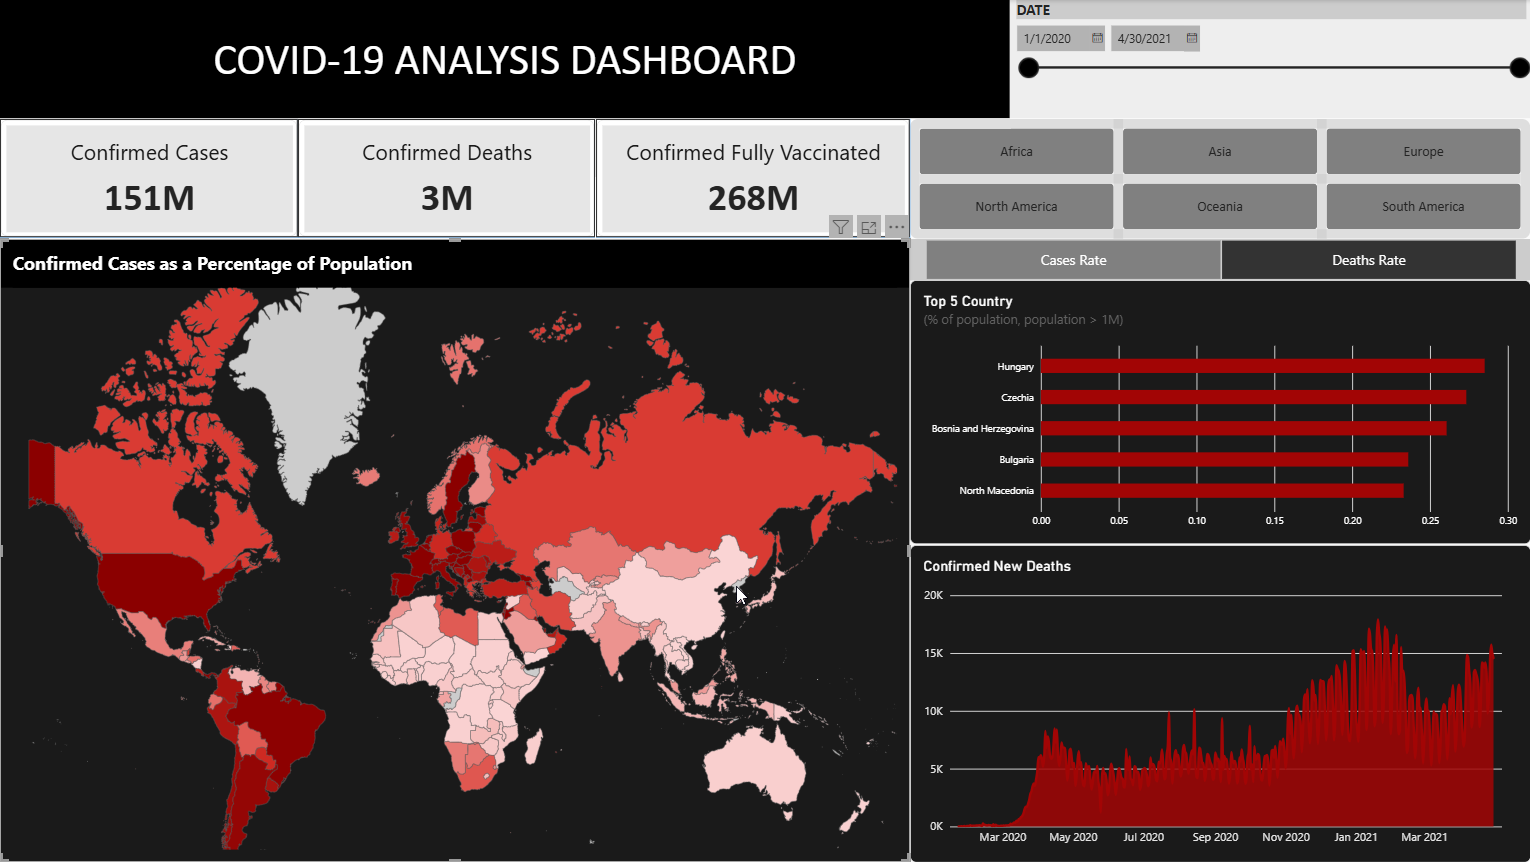

Layout of this report page (visuals, bound fields, positions):
{"tool":"powerbi","page":{"name":"1. sayfa","canvas":[1920,1080],"ordinal":0},"visuals":[{"type":"lineChart","title":"Confirmed New Deaths","fields":{"Category":["covid-19.date_month"],"Y":["covid-19.New Deaths World"]},"box":[1139.9,682.3,778.1,397.7],"z":0},{"type":"cardVisual","fields":{"Data":["covid-19.New Cases World"]},"box":[0,149,373.7,149],"z":1000},{"type":"advancedSlicerVisual","fields":{"Values":["covid-19.continent"]},"box":[1139.9,149,778.1,150.3],"z":2000},{"type":"shapeMap","title":"Confirmed Cases as a Percentage of Population","fields":{"Category":["covid-19.location"],"Value":["CovidDeaths.Cases per Population"]},"box":[0,299.3,1139.9,780.7],"z":3000},{"type":"shape","box":[0,0,1265,148.3],"z":4000},{"type":"slicer","title":"ay","fields":{"Values":["covid-19.date_month"]},"box":[1265,0,655,148.3],"z":5000},{"type":"cardVisual","fields":{"Data":["covid-19.New Deaths World"]},"box":[373.7,149,372.4,149],"z":6000},{"type":"cardVisual","fields":{"Data":["covid-19.Confirmed Fully Vacinated"]},"box":[746.2,149,393.7,149],"z":7000},{"type":"slicer","fields":{"Values":["Metric Selector.Metric"]},"box":[1139.9,299.3,778.1,51.9],"z":8000},{"type":"clusteredBarChart","title":"Top 5 Country","fields":{"Category":["covid-19.location"],"Y":["Metric Selector.Selected Metric"]},"box":[1139.9,351.1,778.1,331.2],"z":9000}]}

Visuals, with their boxes in screenshot pixels (x1, y1, x2, y2), scaled from the page's 1920x1080 canvas onto the 1530x862 screenshot:
"Confirmed New Deaths" lineChart: bbox=(908, 545, 1528, 861)
cardVisual - covid-19.New Cases World: bbox=(0, 119, 298, 238)
advancedSlicerVisual - covid-19.continent: bbox=(908, 119, 1528, 239)
"Confirmed Cases as a Percentage of Population" shapeMap: bbox=(0, 239, 908, 861)
shape: bbox=(0, 0, 1008, 118)
"ay" slicer: bbox=(1008, 0, 1529, 118)
cardVisual - covid-19.New Deaths World: bbox=(298, 119, 595, 238)
cardVisual - covid-19.Confirmed Fully Vacinated: bbox=(595, 119, 908, 238)
slicer - Metric Selector.Metric: bbox=(908, 239, 1528, 280)
"Top 5 Country" clusteredBarChart: bbox=(908, 280, 1528, 545)
